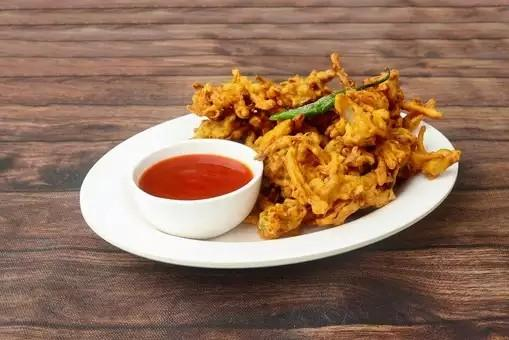OnionPakoda: (190, 52, 461, 241)
